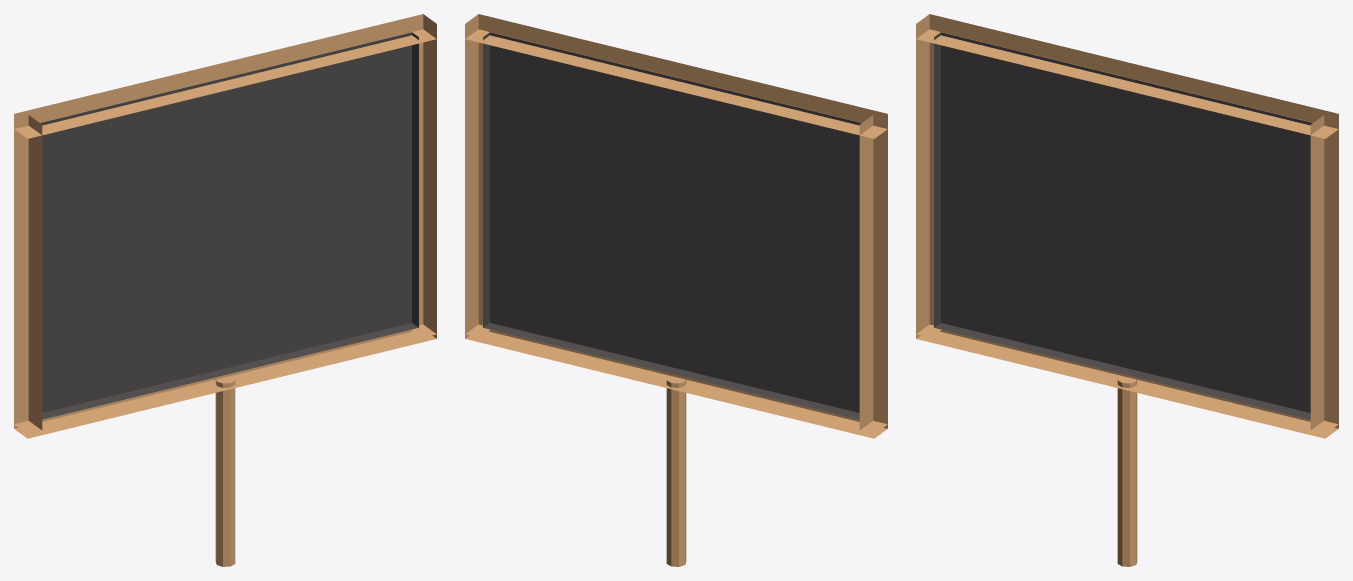
The model's file is board.glb.
The picture shows the model from 3 angles, left to right: view 1: azimuth 30°, elevation 25°; view 2: azimuth 150°, elevation 25°; view 3: azimuth 330°, elevation 25°; orthographic projection.
Visible parts, largest first — view 1: plate, frame; view 2: plate, frame; view 3: plate, frame.
Boxes of the visible parts, box(x1,y1,x2,y2) form: plate: box(40, 32, 418, 419); frame: box(14, 14, 436, 566); plate: box(483, 32, 861, 419); frame: box(465, 14, 887, 566); plate: box(934, 32, 1312, 419); frame: box(916, 14, 1338, 566).
Size of the model in its own units: 2.8 by 3.23 by 0.16.
